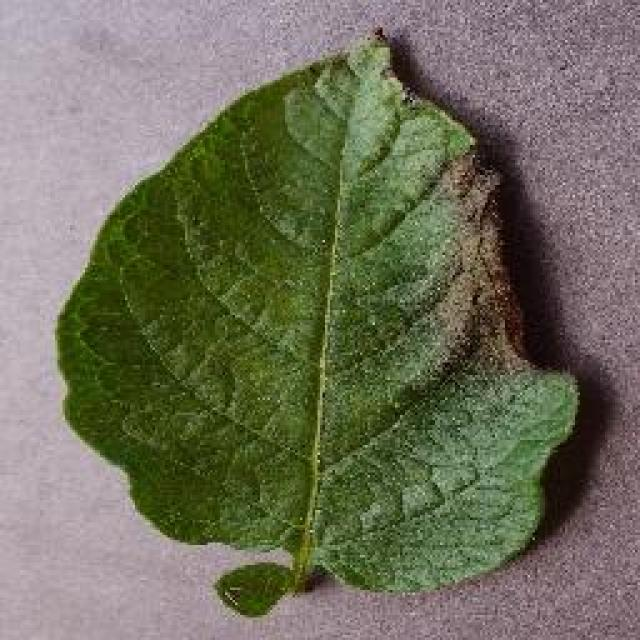late_blight: (50, 22, 585, 612)
